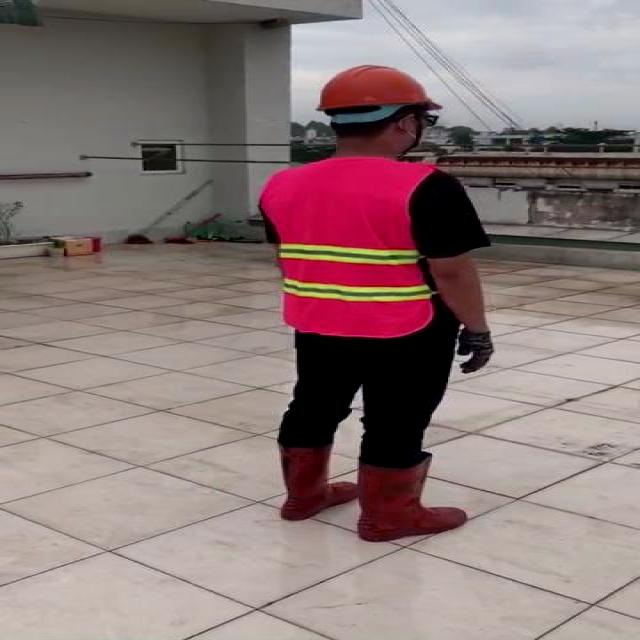boots: (354, 449, 469, 543), (268, 448, 358, 523)
hand_glove: (446, 331, 500, 372)
head_helmet: (308, 64, 440, 115)
person: (232, 64, 502, 548)
vest: (263, 157, 441, 337)
